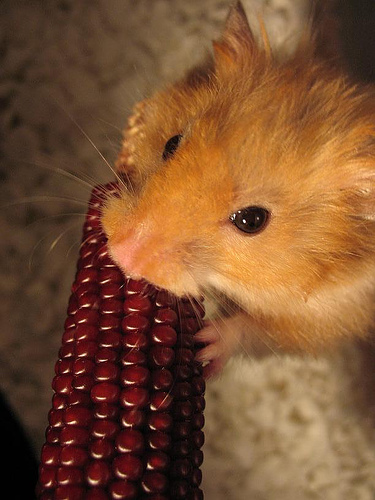corn: (36, 182, 210, 498)
